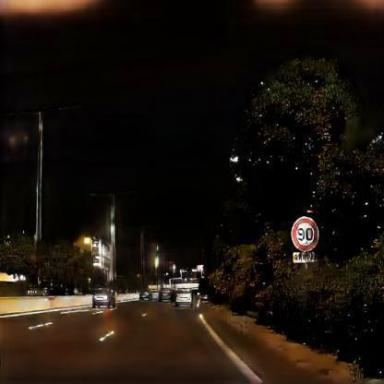Speed_limit_90: (291, 217, 319, 252)
